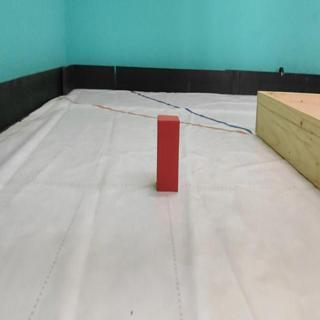redbox: (158, 115, 179, 191)
